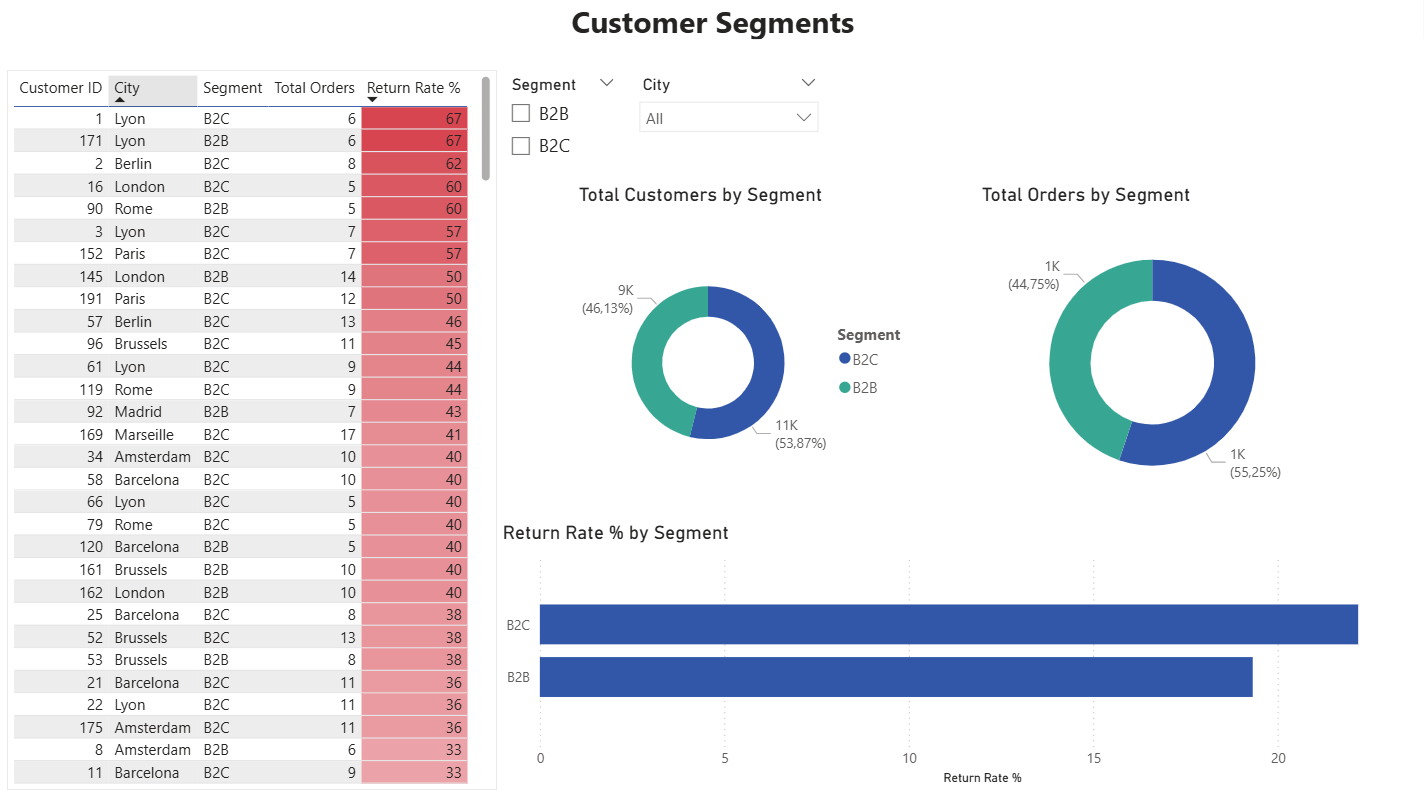

The dashboard page shown, as its layout file describes it:
{"tool":"powerbi","page":{"name":"Customer Segments","canvas":[1280,720],"ordinal":1},"visuals":[{"type":"tableEx","fields":{"Values":["customer_segments.customer_id","customer_segments.city","customer_segments.segment","customer_segments.total_orders","customer_segments.return_rate_pct"]},"box":[10.6,67.4,434.5,638.4],"z":0},{"type":"slicer","fields":{"Values":["customer_segments.segment"]},"box":[444.8,67.4,116.1,91.8],"z":1000},{"type":"textbox","box":[0,0,1280.4,45.2],"z":2000},{"type":"donutChart","fields":{"Category":["customer_segments.segment"],"Y":["Sum(customer_segments.customer_id)"]},"box":[512.2,167.6,314.6,299.6],"z":3000},{"type":"clusteredBarChart","fields":{"Category":["customer_segments.segment"],"Y":["Avg(customer_segments.return_rate_pct)"]},"box":[445,467,835,238],"z":4000},{"type":"donutChart","fields":{"Category":["customer_segments.segment"],"Y":["Sum(customer_segments.total_orders)"]},"box":[869.9,167.6,312.7,299.6],"z":5000},{"type":"slicer","fields":{"Values":["customer_segments.city"]},"box":[560.9,67.4,178.8,100.2],"z":6000}]}

Visuals, with their boxes in screenshot pixels (x1, y1, x2, y2), scaled from the page's 1280x720 canvas onto the 1424x799 screenshot:
tableEx - customer_segments.customer_id x customer_segments.city: [left=12, top=75, right=495, bottom=783]
slicer - customer_segments.segment: [left=495, top=75, right=624, bottom=177]
textbox: [left=0, top=0, right=1423, bottom=50]
donutChart - customer_segments.segment x Sum(customer_segments.customer_id): [left=570, top=186, right=920, bottom=518]
clusteredBarChart - customer_segments.segment x Avg(customer_segments.return_rate_pct): [left=495, top=518, right=1423, bottom=782]
donutChart - customer_segments.segment x Sum(customer_segments.total_orders): [left=968, top=186, right=1316, bottom=518]
slicer - customer_segments.city: [left=624, top=75, right=823, bottom=186]
